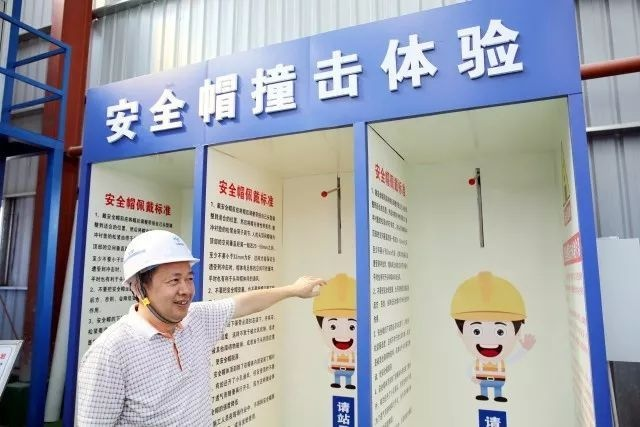white: (116, 226, 202, 329)
